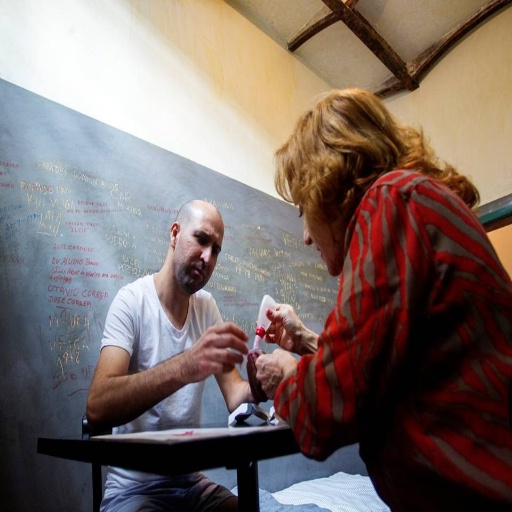hand: (174, 321, 256, 405), (254, 347, 296, 401), (262, 302, 304, 352), (245, 348, 269, 401)
